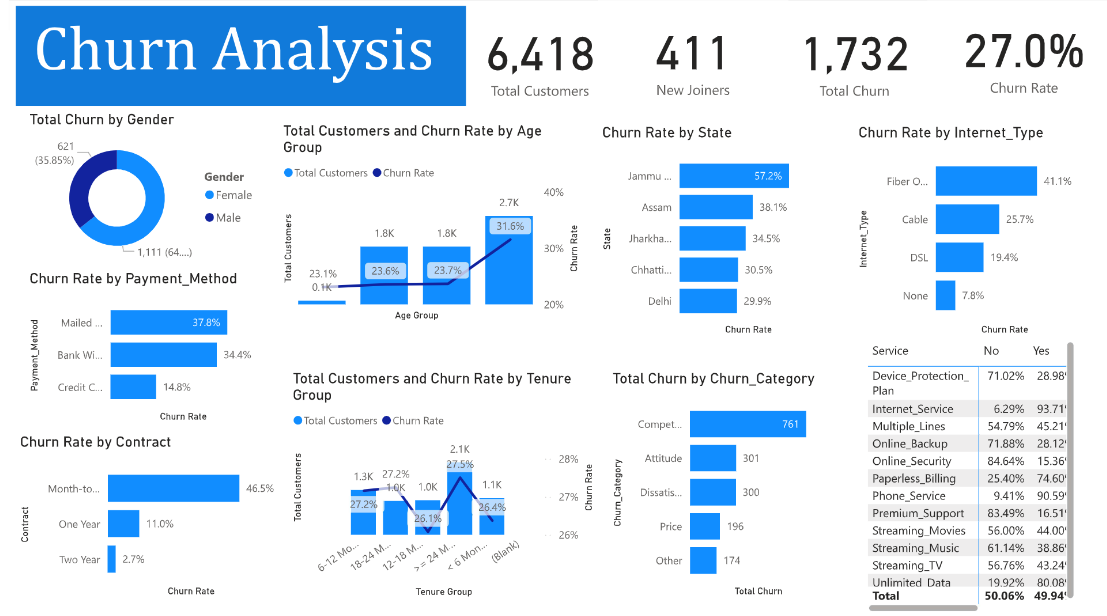

The page's visual inventory and layout, read from the dashboard file:
{"tool":"powerbi","page":{"name":"Summary","canvas":[1280,720],"ordinal":0},"visuals":[{"type":"card","fields":{"Values":["tbl_Measures.Total Customers"]},"box":[500,6.7,223.3,115],"z":0},{"type":"card","fields":{"Values":["tbl_Measures.New Joiners"]},"box":[678.3,0,218.3,126.7],"z":1000},{"type":"card","fields":{"Values":["tbl_Measures.Total Churn"]},"box":[851.7,6.7,243.3,115],"z":2000},{"type":"card","fields":{"Values":["tbl_Measures.Churn Rate"]},"box":[1056.7,0,223.3,121.7],"z":3000},{"type":"donutChart","fields":{"Y":["tbl_Measures.Total Churn"],"Category":["prod_Churn.Gender"]},"box":[19.4,126.3,276.9,183],"z":4000},{"type":"lineStackedColumnComboChart","fields":{"Category":["mapping_AgeGrp.Age Group"],"Y":["tbl_Measures.Total Customers"],"Y2":["tbl_Measures.Churn Rate"]},"box":[310.9,139.3,349.8,233.2],"z":5000},{"type":"clusteredBarChart","fields":{"Category":["prod_Churn.Payment_Method"],"Y":["tbl_Measures.Churn Rate"]},"box":[19.4,309.3,270.4,179.7],"z":6000},{"type":"clusteredBarChart","fields":{"Category":["prod_Churn.Contract"],"Y":["tbl_Measures.Churn Rate"]},"box":[8.1,497.1,302.8,192.7],"z":7000},{"type":"lineStackedColumnComboChart","fields":{"Category":["mapping_tenureGrp.Tenure Group "],"Y":["tbl_Measures.Total Customers"],"Y2":["tbl_Measures.Churn Rate"]},"box":[322.2,424.2,356.2,265.6],"z":8000},{"type":"clusteredBarChart","fields":{"Category":["prod_Churn.State"],"Y":["tbl_Measures.Churn Rate"]},"box":[678.5,140.9,257.5,247.7],"z":9000},{"type":"clusteredBarChart","fields":{"Y":["tbl_Measures.Total Churn"],"Category":["prod_Churn.Churn_Category"]},"box":[689.8,424.2,257.5,265.6],"z":10000},{"type":"clusteredBarChart","fields":{"Category":["prod_Churn.Internet_Type"],"Y":["tbl_Measures.Churn Rate"]},"box":[973.2,140.9,257.5,247.7],"z":11000},{"type":"pivotTable","fields":{"Rows":["prod_Services.Service"],"Columns":["prod_Services.Status"],"Values":["Sum(prod_Services.Churn Status )"]},"box":[984.5,387,246.1,320.6],"z":12000},{"type":"textbox","box":[8.1,6.5,518.2,115],"z":13000}]}

Visuals, with their boxes in screenshot pixels (x1, y1, x2, y2), scaled from the page's 1280x720 canvas onto the 1107x616 screenshot:
card - tbl_Measures.Total Customers: Rect(432, 6, 626, 104)
card - tbl_Measures.New Joiners: Rect(587, 0, 775, 108)
card - tbl_Measures.Total Churn: Rect(737, 6, 947, 104)
card - tbl_Measures.Churn Rate: Rect(914, 0, 1106, 104)
donutChart - tbl_Measures.Total Churn x prod_Churn.Gender: Rect(17, 108, 256, 265)
lineStackedColumnComboChart - mapping_AgeGrp.Age Group x tbl_Measures.Total Customers: Rect(269, 119, 571, 319)
clusteredBarChart - prod_Churn.Payment_Method x tbl_Measures.Churn Rate: Rect(17, 265, 251, 418)
clusteredBarChart - prod_Churn.Contract x tbl_Measures.Churn Rate: Rect(7, 425, 269, 590)
lineStackedColumnComboChart - mapping_tenureGrp.Tenure Group  x tbl_Measures.Total Customers: Rect(279, 363, 587, 590)
clusteredBarChart - prod_Churn.State x tbl_Measures.Churn Rate: Rect(587, 121, 809, 332)
clusteredBarChart - tbl_Measures.Total Churn x prod_Churn.Churn_Category: Rect(597, 363, 819, 590)
clusteredBarChart - prod_Churn.Internet_Type x tbl_Measures.Churn Rate: Rect(842, 121, 1064, 332)
pivotTable - prod_Services.Service x prod_Services.Status: Rect(851, 331, 1064, 605)
textbox: Rect(7, 6, 455, 104)
